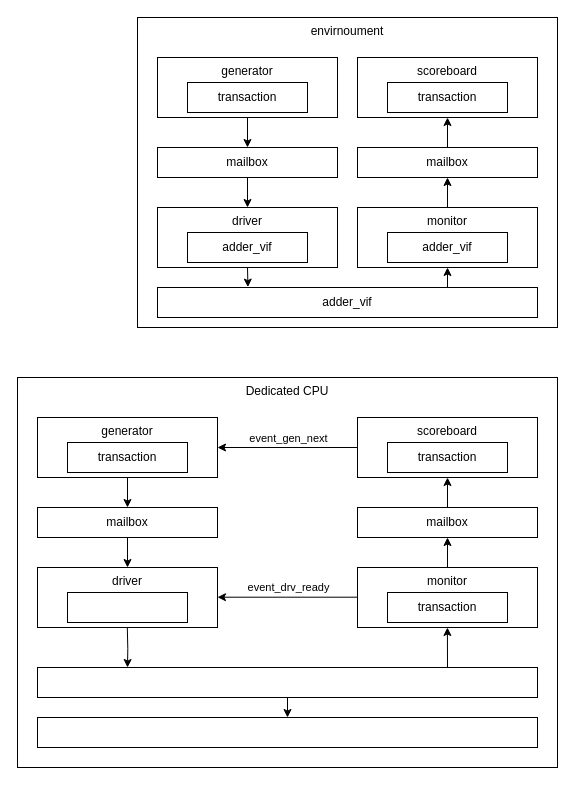
This 575x785 diagram has some shape labels left out. Each missing label, with the centre of its shape:
dedicated_cpu_if: the point at 287,682
dedicated_cpu_vif: the point at 127,607
dut: the point at 287,732
